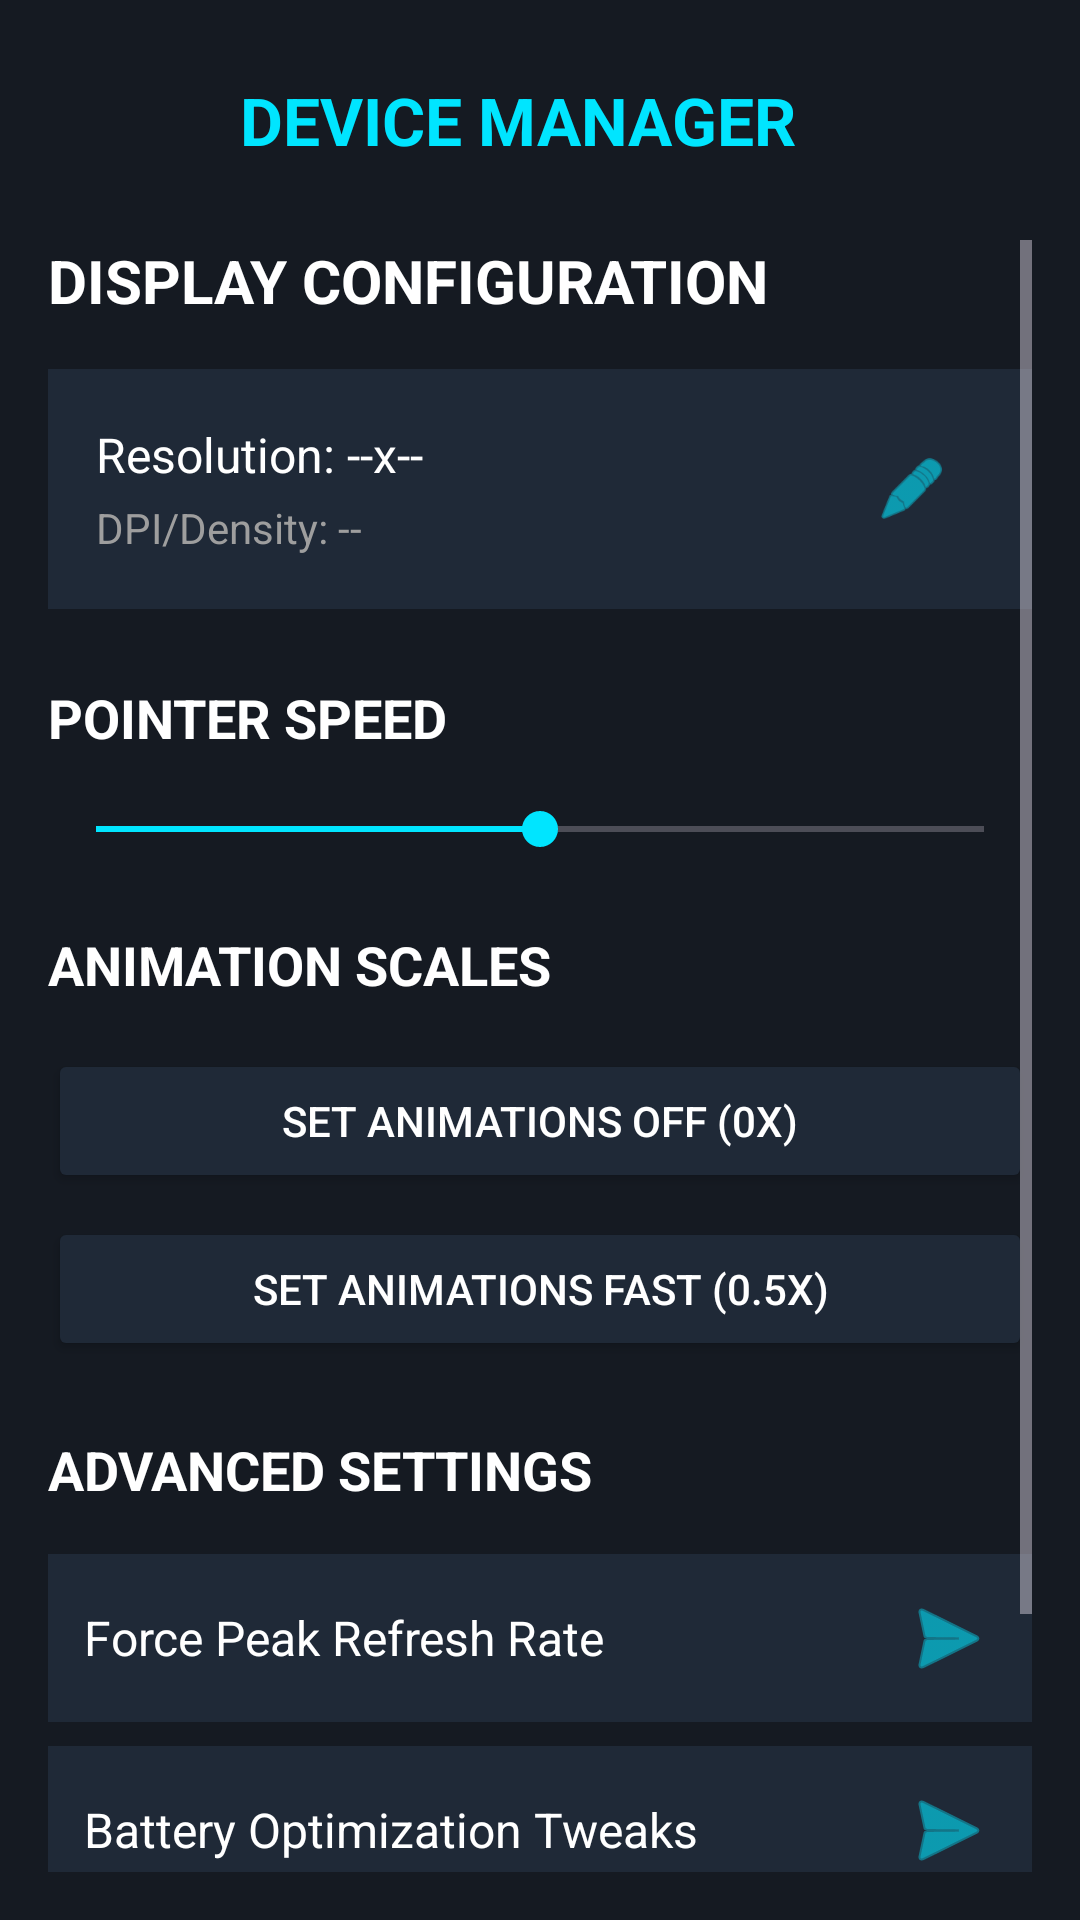

Named icons in this screenshot (1080px x 1920px) and their bounding boxes, box(x1, y1, x2, y2):
edit: box(881, 458, 942, 519)
send: box(918, 1608, 980, 1669), box(918, 1800, 980, 1861)
